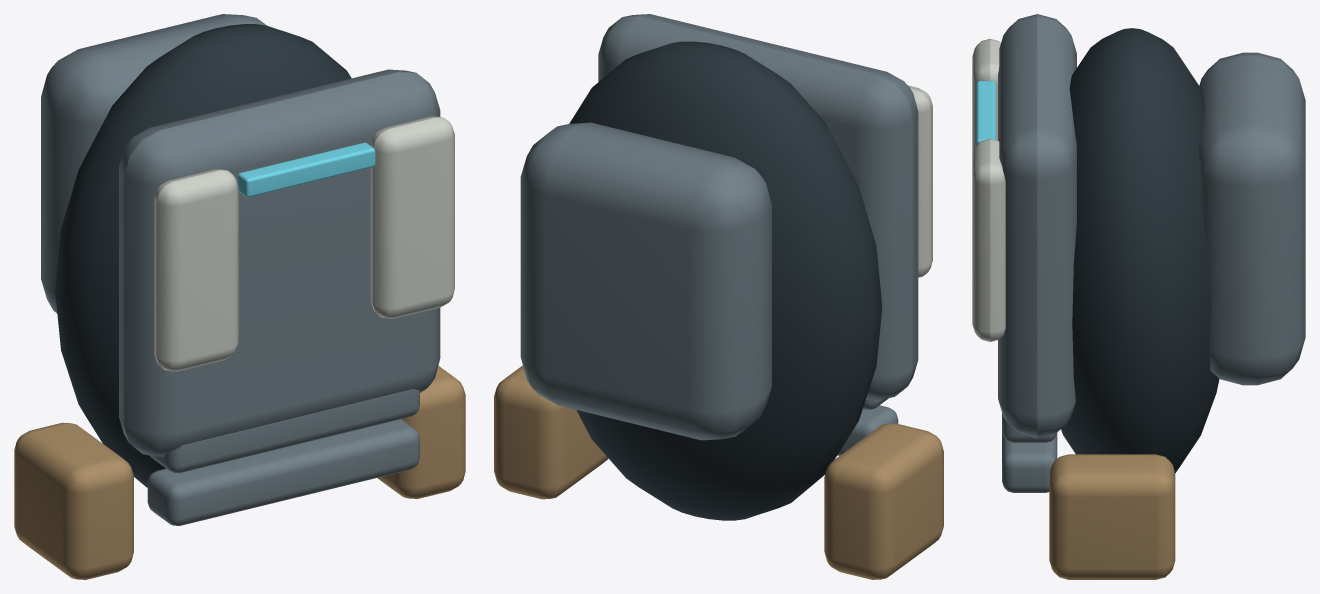
File: courier_torso.fbx
3 views of the same model, side by side, from view 1: azimuth 30°, elevation 25°; view 2: azimuth 150°, elevation 25°; view 3: azimuth 270°, elevation 25° (orthographic). The views are drawn at different scales.
Visible parts, largest first — view 1: courier_torso; view 2: courier_torso; view 3: courier_torso.
Boxes of the visible parts, x1,y1,x2,y2 form: courier_torso: (14, 14, 465, 579); courier_torso: (494, 14, 943, 579); courier_torso: (972, 14, 1305, 579).
Bounding box in the file's own units: 55.5 × 42.25 × 63.5.
